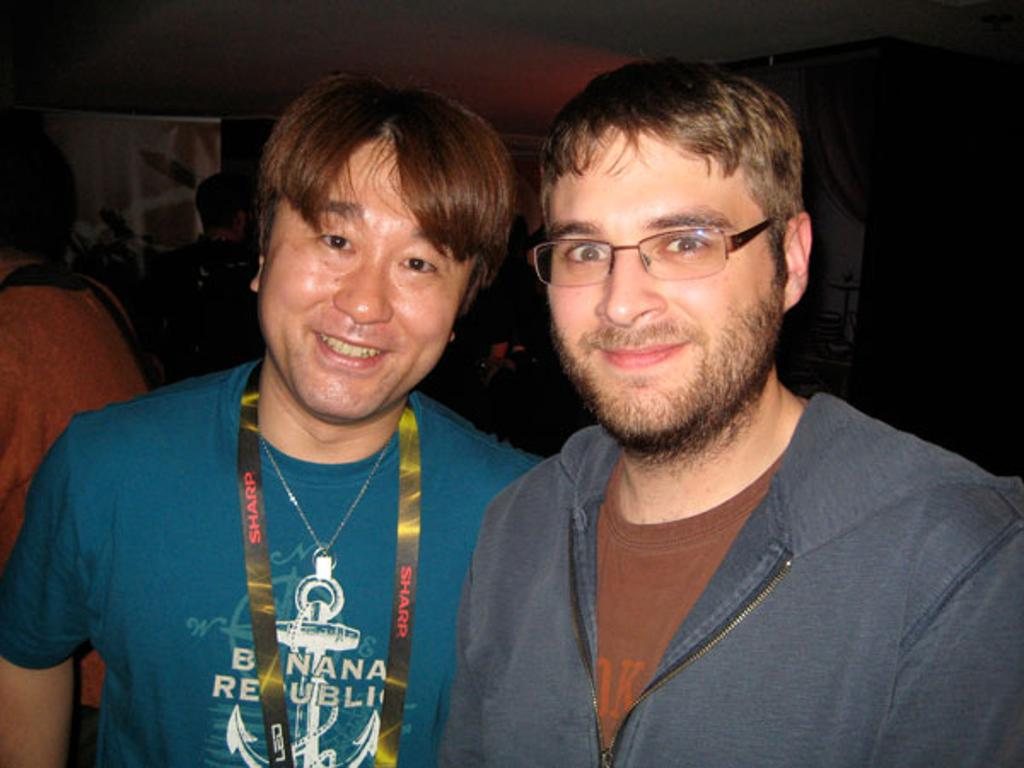face: (552, 140, 778, 438), (258, 154, 466, 424)
